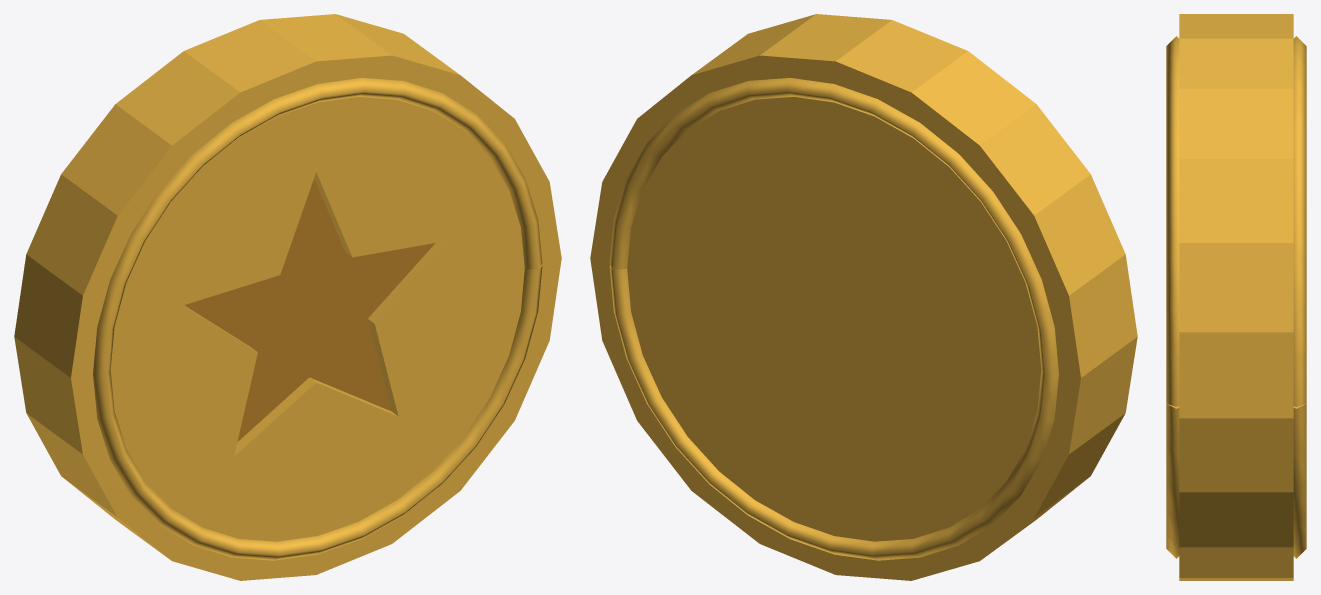
Rendered from gold-doubloon.glb.
3 views of the same model, side by side, from view 1: azimuth 30°, elevation 25°; view 2: azimuth 150°, elevation 25°; view 3: azimuth 270°, elevation 25° (orthographic).
Parts seen in each view (by area): view 1: Thick gold doubloon, Raised coin rim, Warm gold recessed star face; view 2: Thick gold doubloon, Raised coin rim.001; view 3: Thick gold doubloon, Raised coin rim, Raised coin rim.001.
Boxes of the visible parts, x1,y1,x2,y2 form: Thick gold doubloon: [14, 14, 561, 580]; Raised coin rim: [93, 78, 542, 560]; Warm gold recessed star face: [184, 178, 435, 441]; Thick gold doubloon: [590, 14, 1137, 580]; Raised coin rim.001: [609, 78, 1058, 560]; Thick gold doubloon: [1179, 14, 1293, 580]; Raised coin rim: [1166, 36, 1179, 558]; Raised coin rim.001: [1293, 36, 1306, 558].
Bounding box in the file's own units: 1 × 1 × 0.246.
